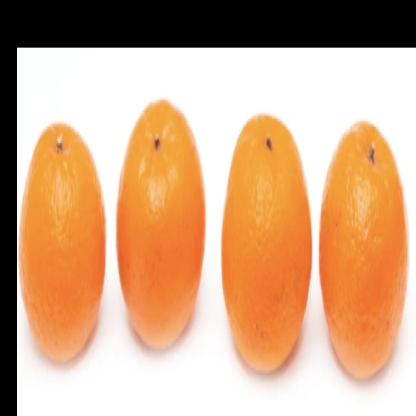fresh: (20, 102, 406, 385)
